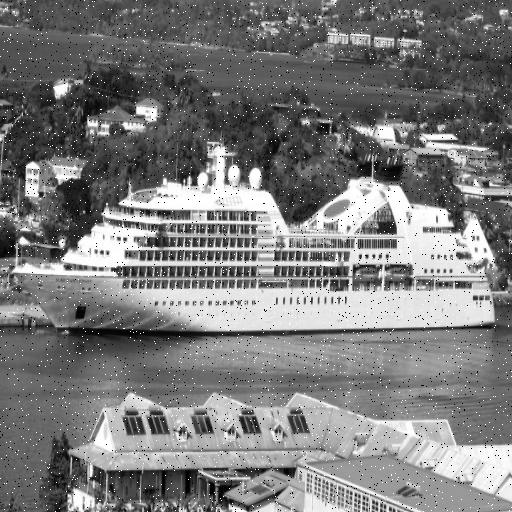cruises: (9, 137, 502, 344)
